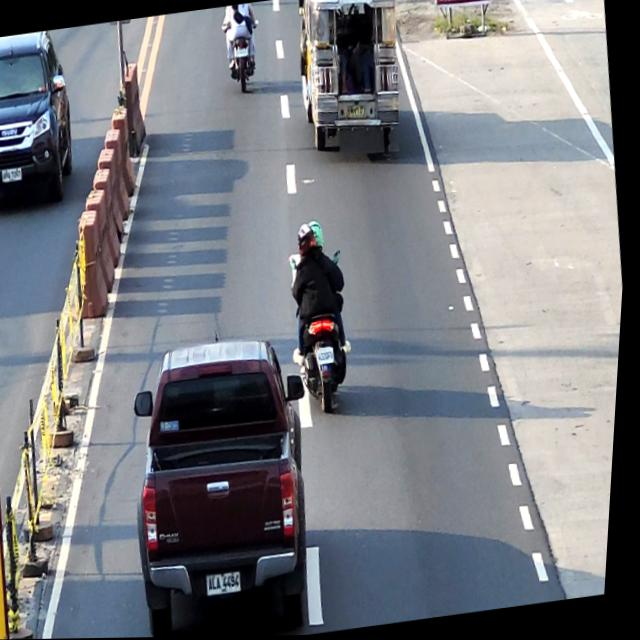Car: (116, 329, 340, 638), (0, 28, 86, 212)
Jeep: (288, 0, 415, 165)
License-Plate: (212, 572, 248, 596), (320, 347, 339, 367), (347, 105, 368, 123), (3, 167, 25, 182), (236, 48, 248, 58)
Motorcycle: (283, 246, 363, 418), (219, 9, 267, 94)
